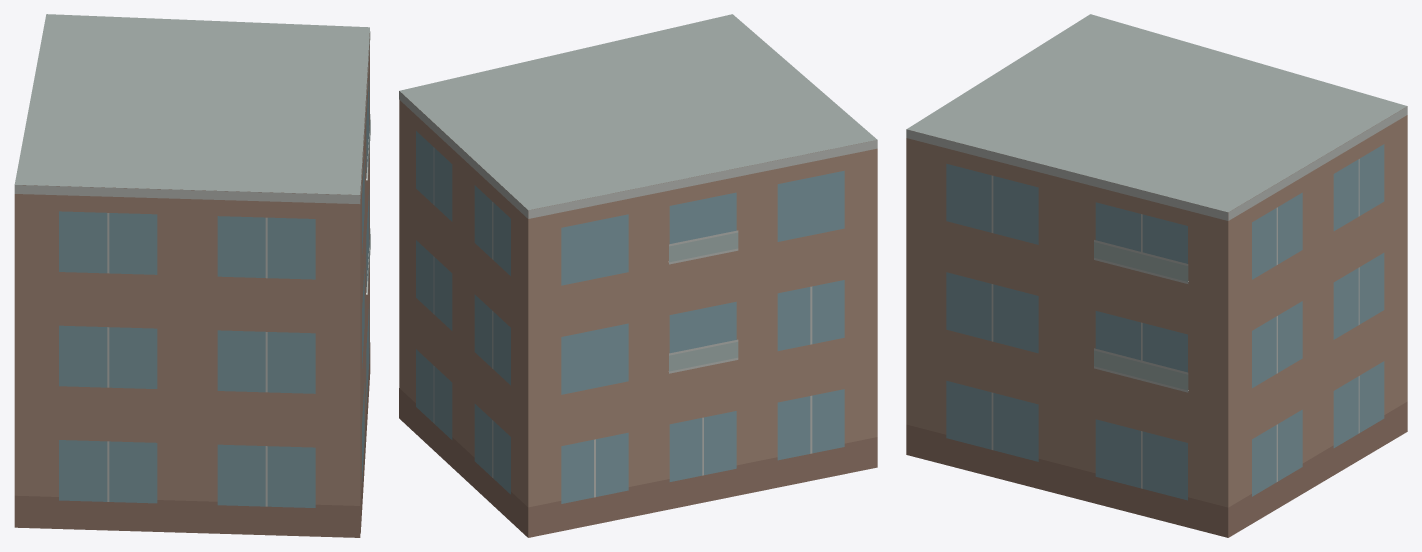
File: survey-upis-32639945.glb
3 renders of one model, left to right at view 1: azimuth 30°, elevation 25°; view 2: azimuth 150°, elevation 25°; view 3: azimuth 270°, elevation 25°, orthographic. The views are drawn at different scales.
Visible parts, largest first — view 1: survey-upis-32639945.tmp; view 2: survey-upis-32639945.tmp; view 3: survey-upis-32639945.tmp.
Boxes of the visible parts, left/top/right/bottom form: survey-upis-32639945.tmp: left=14, top=14, right=370, bottom=537; survey-upis-32639945.tmp: left=399, top=14, right=877, bottom=537; survey-upis-32639945.tmp: left=906, top=14, right=1407, bottom=537.
Bounding box in the file's own units: 11.97 × 9.15 × 12.78.
